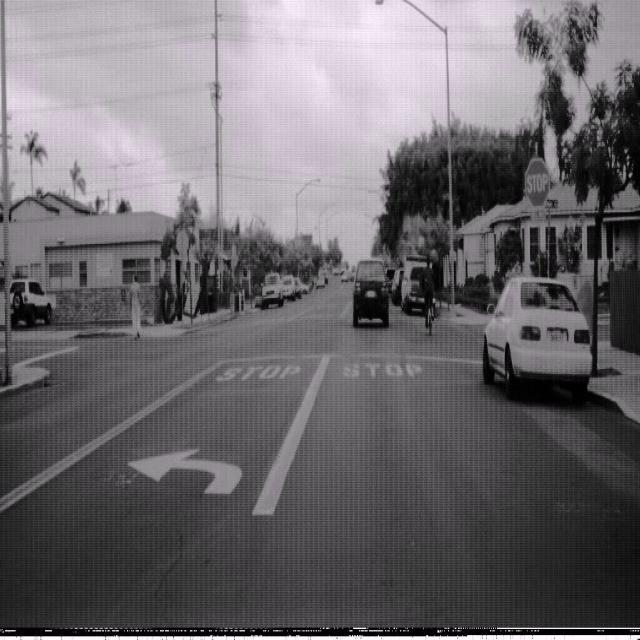stop_sign: (524, 156, 550, 208)
